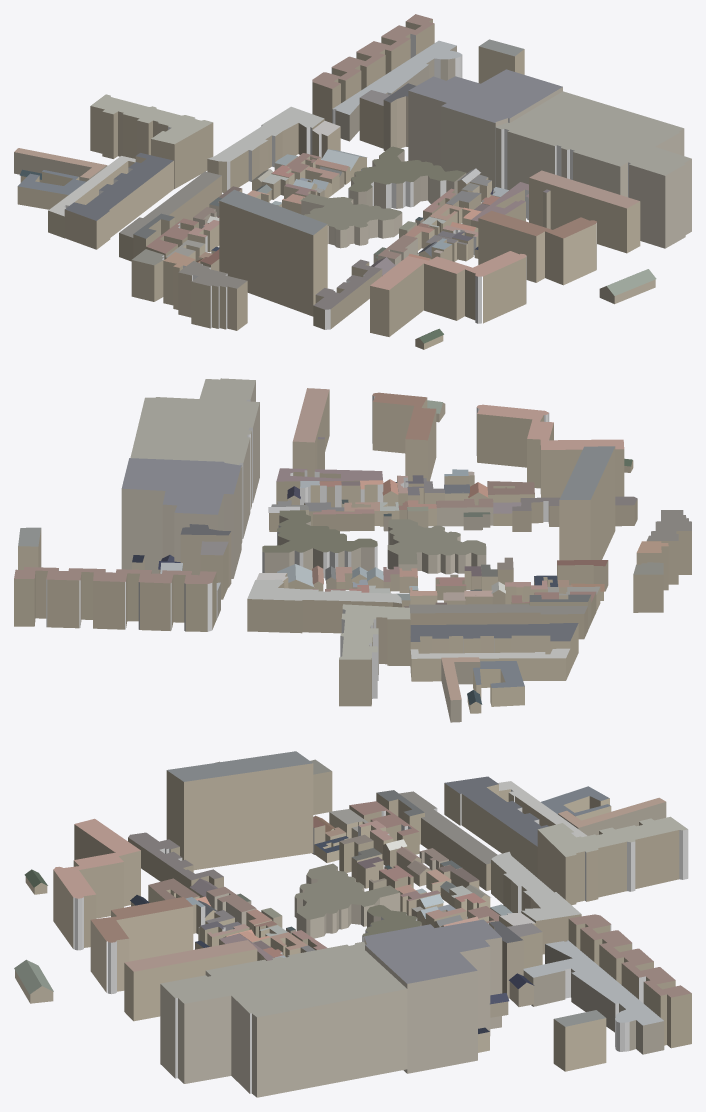
3 views of the same model, one above another, from view 1: azimuth 30°, elevation 25°; view 2: azimuth 150°, elevation 25°; view 3: azimuth 270°, elevation 25° (orthographic). The views are drawn at different scales.
Visible parts, largest first — view 1: tuile; view 2: tuile; view 3: tuile.
Part boxes in pixels (x1=…): tuile: x1=14, y1=14, x2=691, y2=349; tuile: x1=14, y1=378, x2=691, y2=722; tuile: x1=14, y1=751, x2=691, y2=1097.
Size of the model in its own units: 268 by 49.03 by 272.
